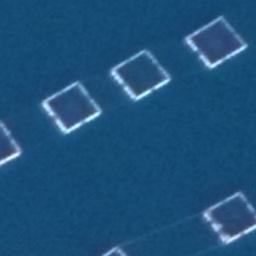square_solid: (35, 75, 108, 142), (104, 45, 177, 105), (182, 12, 251, 73), (199, 186, 256, 248), (1, 112, 26, 170), (96, 242, 132, 256)
